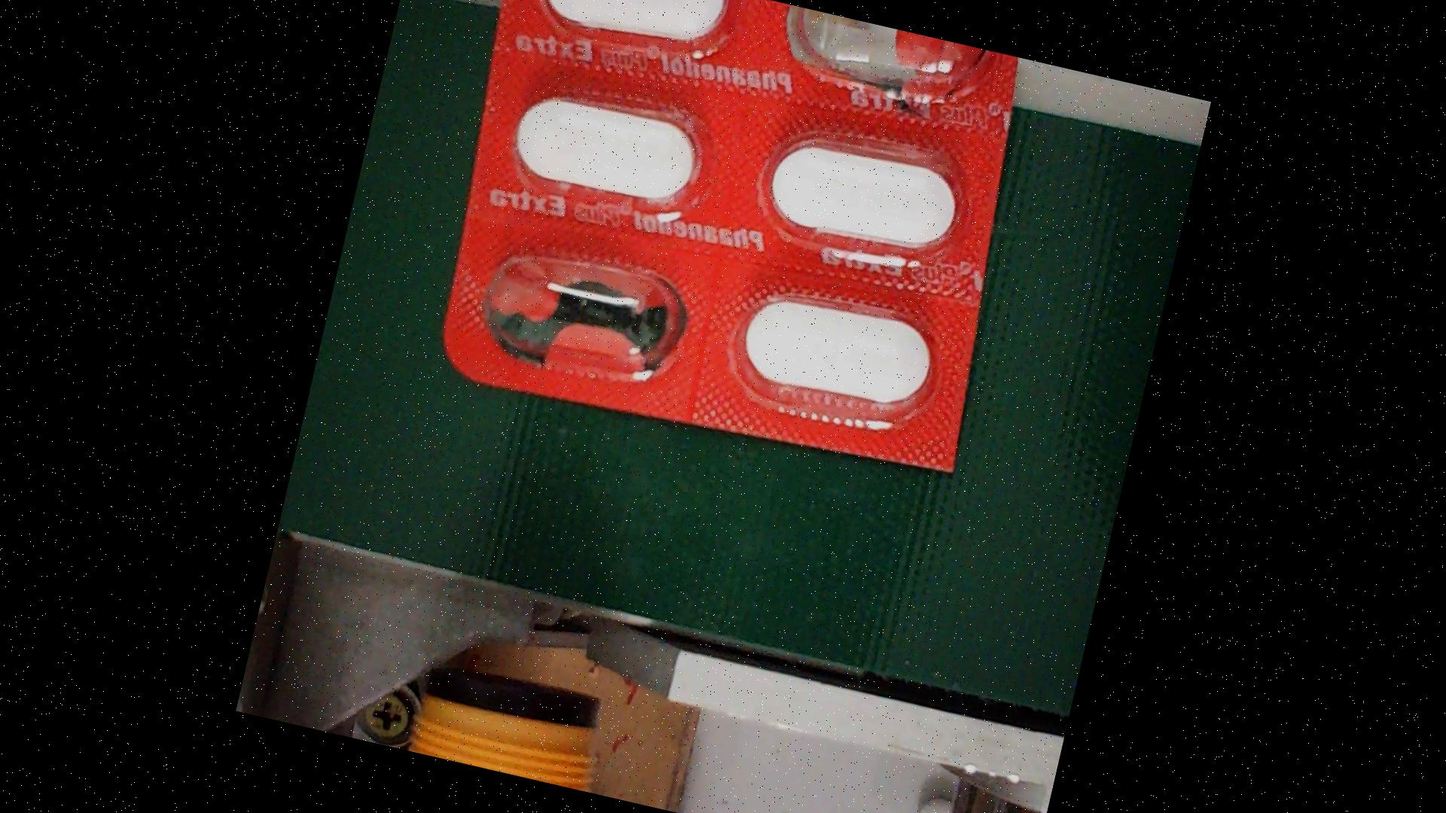Empty: (471, 234, 706, 397), (782, 6, 1003, 116)
Full: (756, 111, 991, 274), (719, 271, 954, 434), (487, 67, 722, 229), (519, 0, 740, 68)
